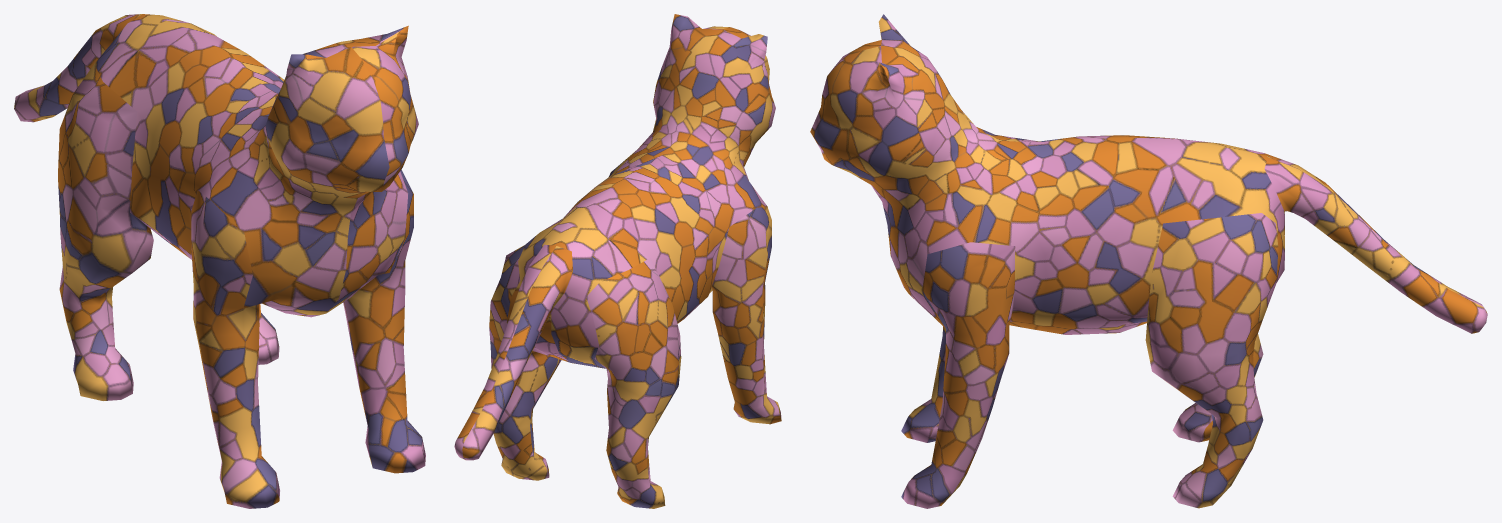
Rendered from sm_cat_textured.fbx.
3 views of the same model, side by side, from view 1: azimuth 30°, elevation 25°; view 2: azimuth 150°, elevation 25°; view 3: azimuth 270°, elevation 25° (orthographic). The views are drawn at different scales.
Parts seen in each view (by area): view 1: Cat:cat; view 2: Cat:cat; view 3: Cat:cat.
Boxes of the visible parts, left/top/right/bottom form: Cat:cat: left=14, top=14, right=425, bottom=508; Cat:cat: left=454, top=14, right=781, bottom=508; Cat:cat: left=810, top=14, right=1487, bottom=508.
Bounding box in the file's own units: 22.25 × 44.41 × 64.41.
Materials: 1 (1 with a texture image).
